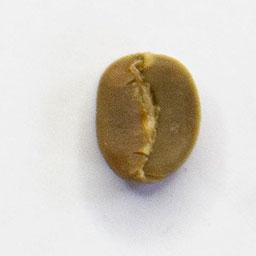defect: (92, 50, 205, 187)
